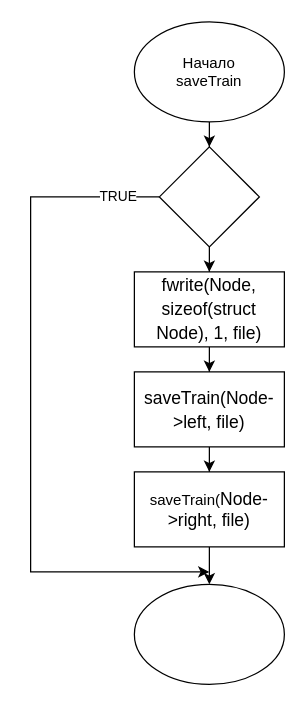
The diagram is 306 pixels wide and 706 high, and some of its shapes have lost their labels. The box of each missing label's shape, as (x1, y1, x2, y2) in pixels:
!Node: (158, 146, 259, 247)
Конец: (133, 583, 284, 684)
